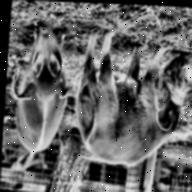boar: (67, 23, 192, 171), (5, 20, 77, 165)
